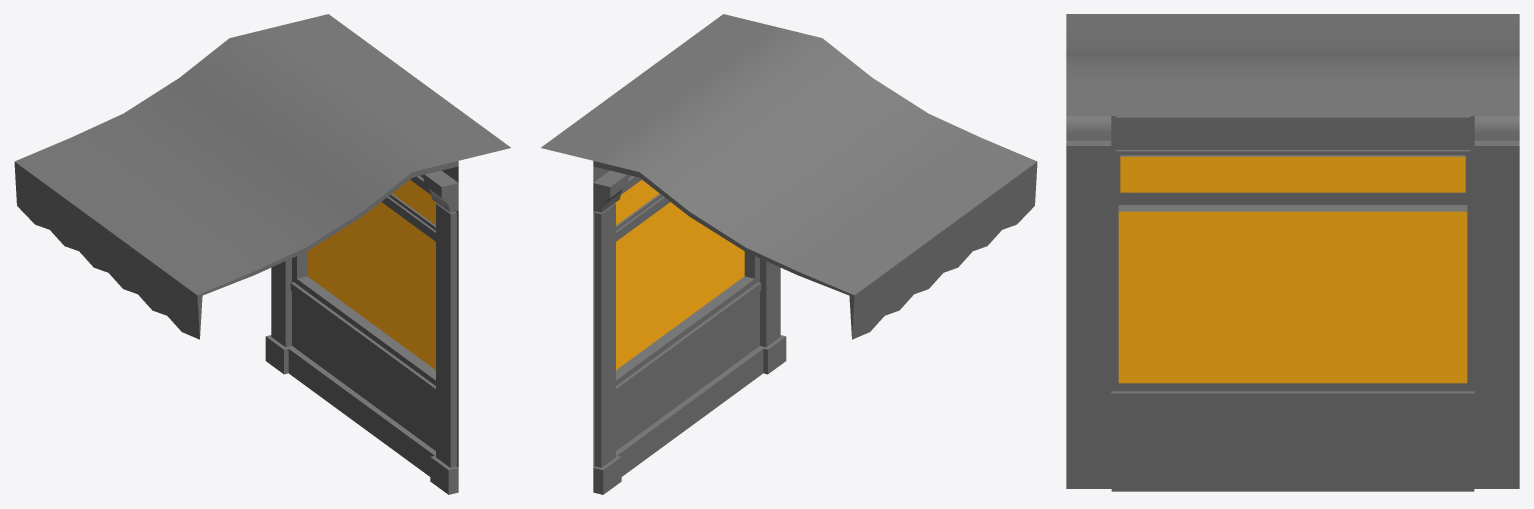
The model's file is O5_Façade_boutique_Fenetre_pilllier_Tonnelle.fbx.
The picture shows the model from 3 angles, left to right: view 1: azimuth 30°, elevation 25°; view 2: azimuth 150°, elevation 25°; view 3: azimuth 270°, elevation 25°; orthographic projection. The views are drawn at different scales.
Visible parts, largest first — view 1: O5_Façade_boutique_Fenêtre_pilllier_Tonnelle001; view 2: O5_Façade_boutique_Fenêtre_pilllier_Tonnelle001; view 3: O5_Façade_boutique_Fenêtre_pilllier_Tonnelle001.
Boxes of the visible parts, <box> form: O5_Façade_boutique_Fenêtre_pilllier_Tonnelle001: <box>14,14,510,494</box>; O5_Façade_boutique_Fenêtre_pilllier_Tonnelle001: <box>541,14,1037,494</box>; O5_Façade_boutique_Fenêtre_pilllier_Tonnelle001: <box>1066,14,1519,491</box>.
Size of the model in its own units: 2.97 by 3 by 3.
